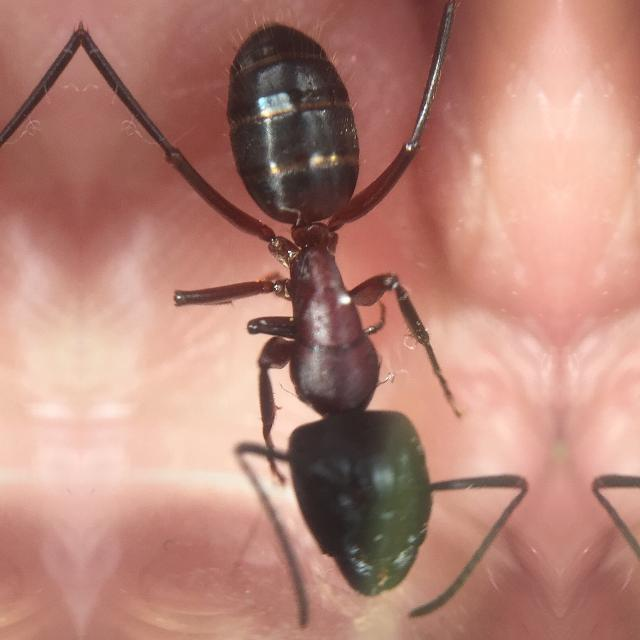Camponotus: (156, 11, 472, 622)
